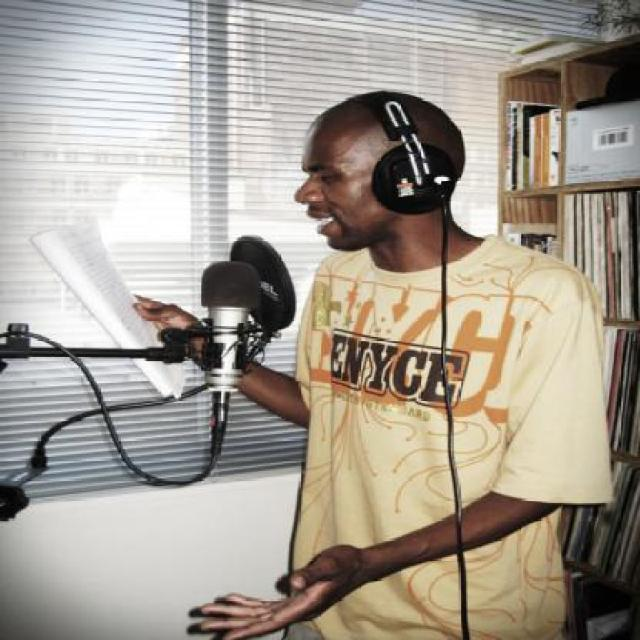earphone: (369, 88, 475, 232)
